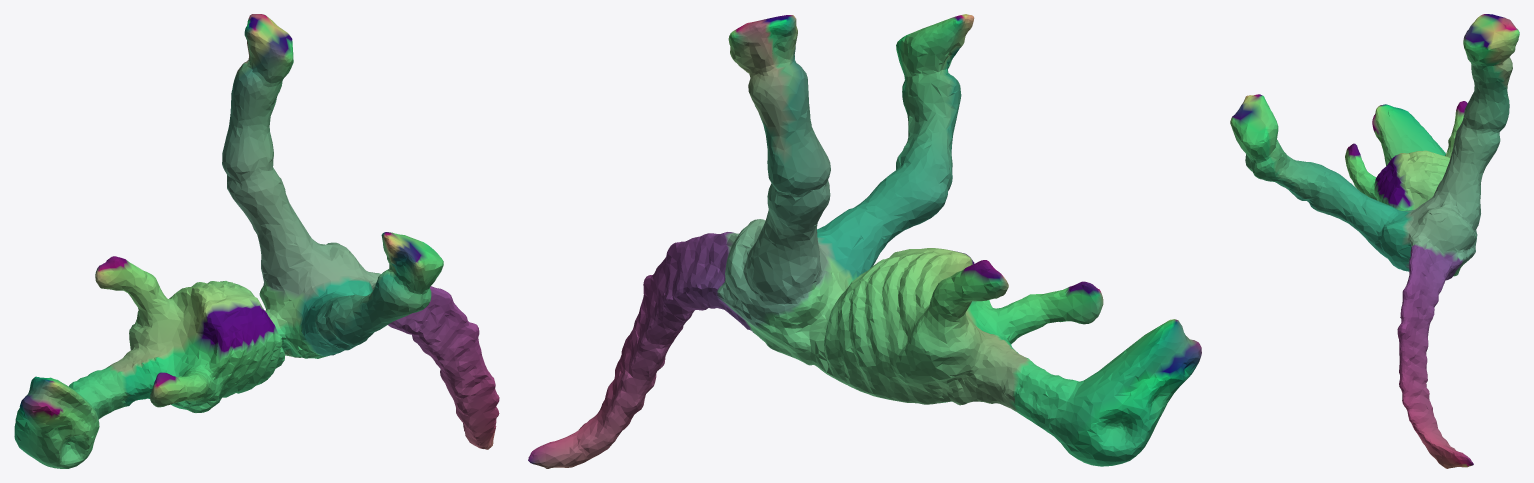
Rendered from dino_skel-13.off.obj.
3 renders of one model, left to right at view 1: azimuth 30°, elevation 25°; view 2: azimuth 150°, elevation 25°; view 3: azimuth 270°, elevation 25°, orthographic. The views are drawn at different scales.
Size of the model in its own units: 1.38 by 1.15 by 0.8167.
